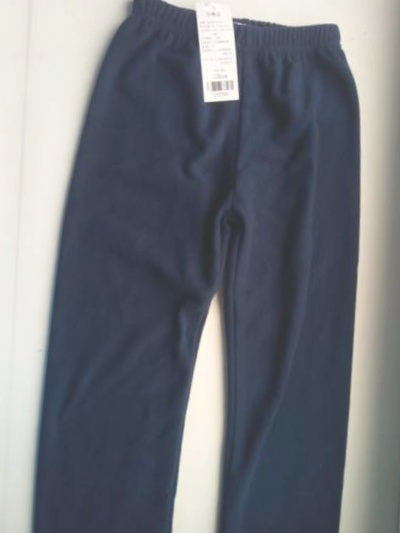Pants: (16, 0, 394, 533), (0, 0, 17, 533)
